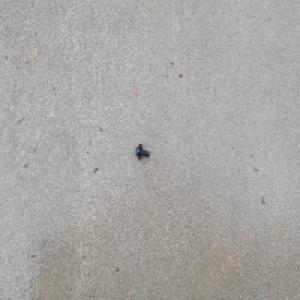BoltWasher: (135, 143, 149, 161)
